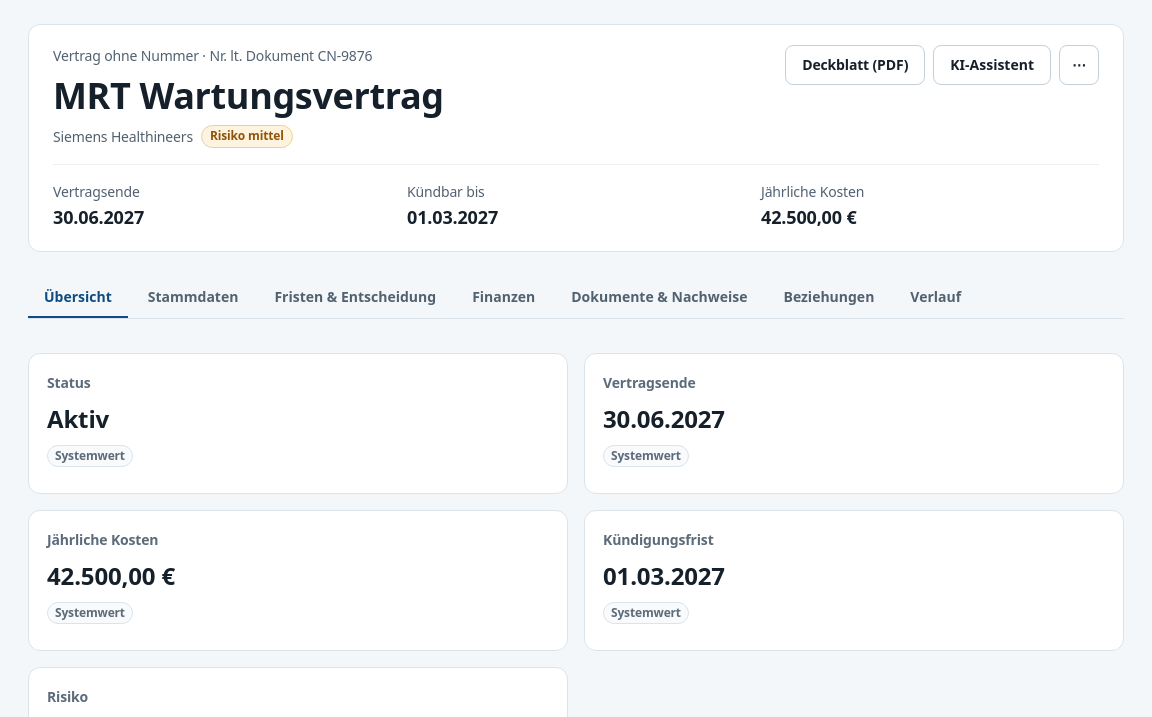
Scenario: Vertrags-Detail + Quellenanzeige (tabbed Contract Workspace) › zeigt den belegten Systemnamen, wenn device_name fehlt
Expected: the heading "MRT Wartungsvertrag" is shown, [53, 71, 444, 120]
Click the tab "Beziehungen": [829, 298] box [768, 278, 890, 318]
(page scrolled)
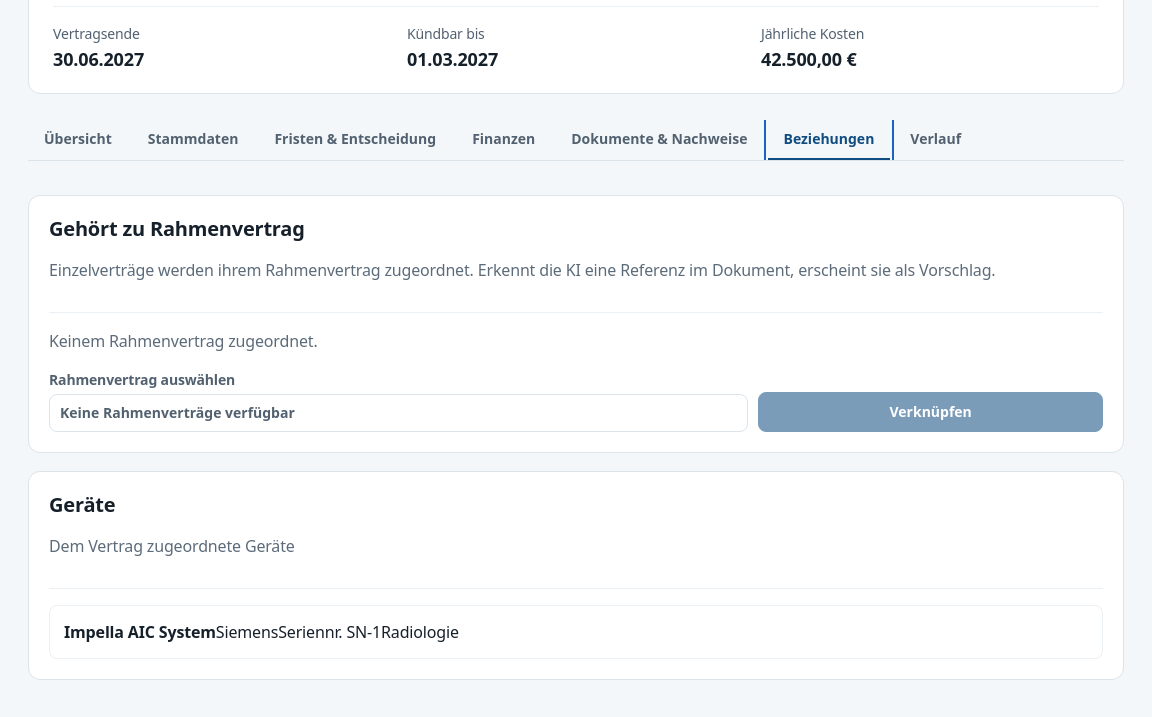
Result: the text "Impella AIC System" is shown at [64, 621, 216, 643]
